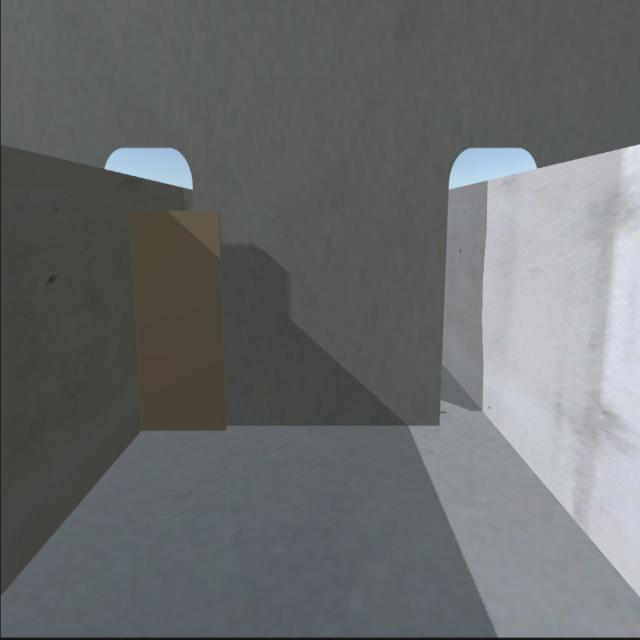fillet_yong_jeop_jang: (134, 424, 442, 432)
longi_yong_jeop_jang: (121, 212, 141, 430)
plate_CP01: (130, 210, 232, 432)
